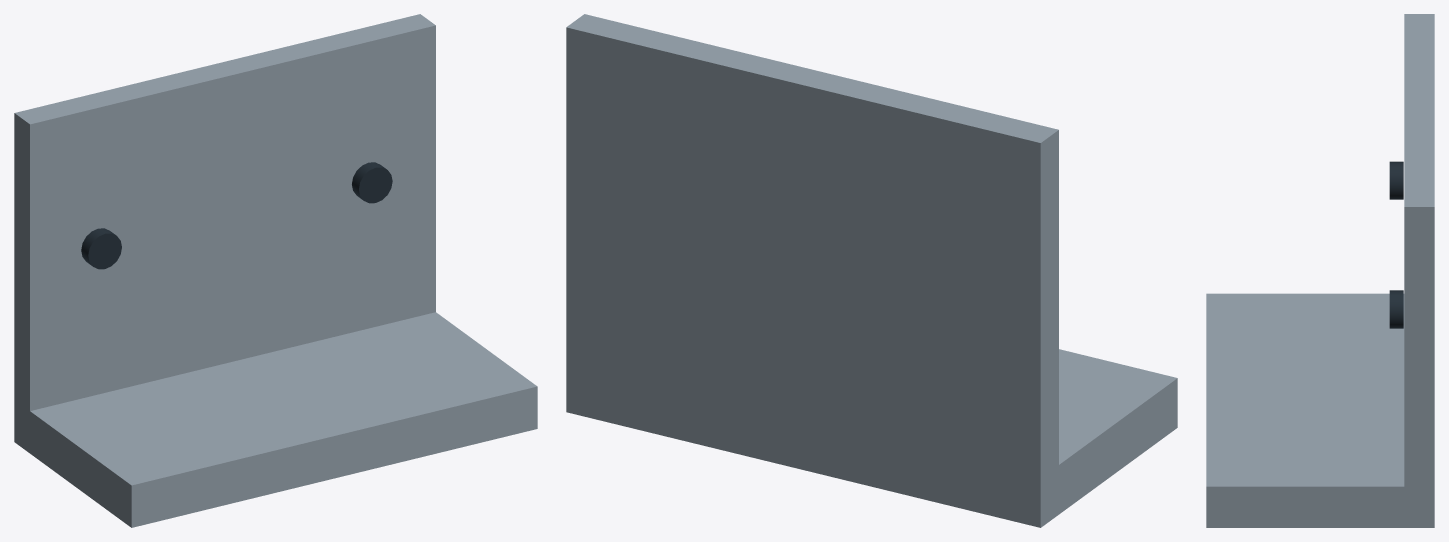
3 views of the same model, side by side, from view 1: azimuth 30°, elevation 25°; view 2: azimuth 150°, elevation 25°; view 3: azimuth 270°, elevation 25° (orthographic). The views are drawn at different scales.
Parts seen in each view (by area): view 1: 玻璃钢吊杆; view 2: 玻璃钢吊杆; view 3: 玻璃钢吊杆.
Boxes of the visible parts, box(x1,y1,x2,y2) form: 玻璃钢吊杆: box(14, 14, 537, 527); 玻璃钢吊杆: box(566, 14, 1177, 527); 玻璃钢吊杆: box(1206, 14, 1434, 527).
Size of the model in its own units: 0.6 by 0.465 by 0.3.
